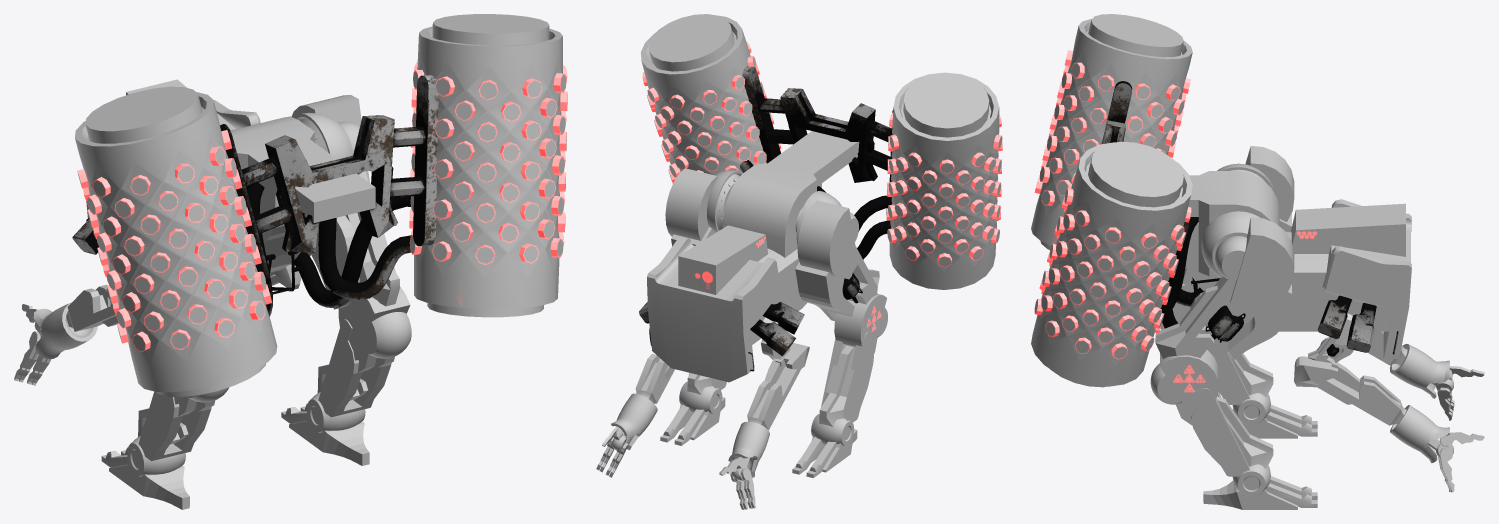
File: Ballisticrushmechfinal.fbx
3 views of the same model, side by side, from view 1: azimuth 30°, elevation 25°; view 2: azimuth 150°, elevation 25°; view 3: azimuth 270°, elevation 25° (orthographic). The views are drawn at different scales.
Visible parts, largest first — view 1: shield generator, leg1, Cylinder.003, Cylinder.004, bodymain, tubelower, leg3, tubetop, leg2, arm5, leg8, arm6 (+8 smaller); view 2: shield generator, bodyfront, bodymain, leg9, leg3, bodylower, Cylinder.003, arm5, leg1, Cylinder.004, arm6, leg4 (+8 smaller); view 3: shield generator, bodymain, leg9, bodylower, leg1, bodyfront, leg3, arm5, arm6, leg5, leg4, leg7 (+11 smaller).
Boxes of the visible parts, x1,y1,x2,y2 form: shield generator: [75, 14, 567, 396]; leg1: [109, 319, 391, 509]; Cylinder.003: [265, 115, 397, 253]; Cylinder.004: [220, 75, 438, 284]; bodymain: [230, 116, 375, 264]; tubelower: [246, 182, 411, 316]; leg3: [101, 349, 394, 467]; tubetop: [294, 196, 410, 307]; leg2: [127, 391, 365, 476]; arm5: [66, 264, 301, 331]; leg8: [187, 312, 411, 402]; arm6: [33, 302, 97, 359]; shield generator: [640, 14, 1002, 289]; bodyfront: [647, 236, 780, 382]; bodymain: [723, 131, 859, 344]; leg9: [665, 168, 858, 278]; leg3: [660, 338, 877, 477]; bodylower: [678, 183, 821, 294]; Cylinder.003: [780, 88, 877, 182]; arm5: [635, 343, 809, 430]; leg1: [674, 331, 873, 472]; Cylinder.004: [742, 66, 893, 182]; arm6: [611, 393, 769, 477]; leg4: [671, 227, 854, 320]; shield generator: [1031, 14, 1192, 387]; bodymain: [1188, 171, 1393, 331]; leg9: [1230, 146, 1294, 309]; bodylower: [1185, 203, 1405, 290]; leg1: [1191, 352, 1297, 509]; bodyfront: [1322, 199, 1411, 359]; leg3: [1175, 351, 1317, 507]; arm5: [1294, 331, 1407, 425]; arm6: [1390, 344, 1449, 463]; leg5: [1155, 267, 1249, 358]; leg4: [1183, 213, 1291, 362]; leg7: [1160, 284, 1218, 416].
Bounding box in the file's own units: 1307 × 1235 × 1344.
